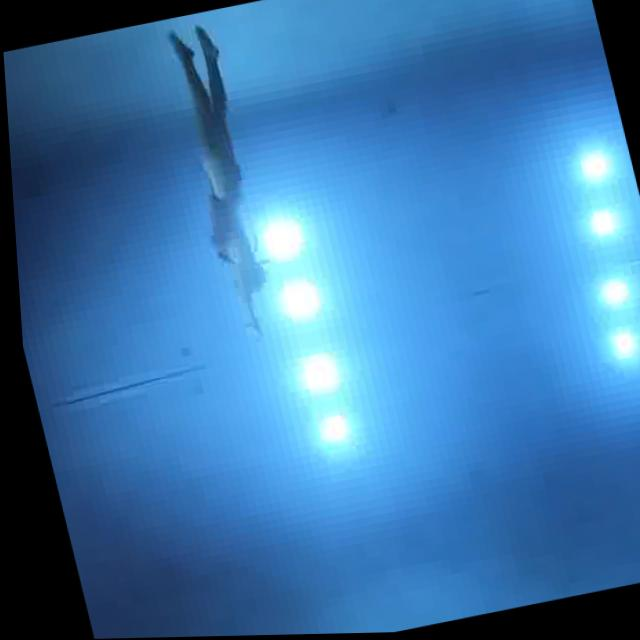human: (144, 7, 305, 361)
